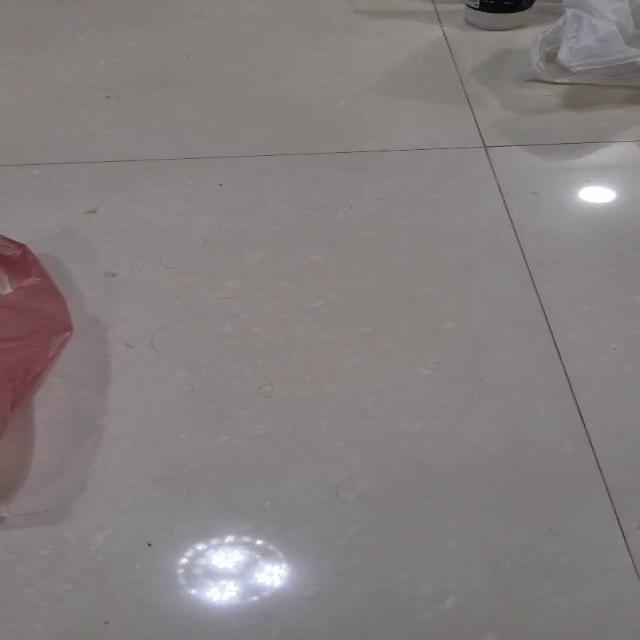plastic: (528, 0, 638, 86)
